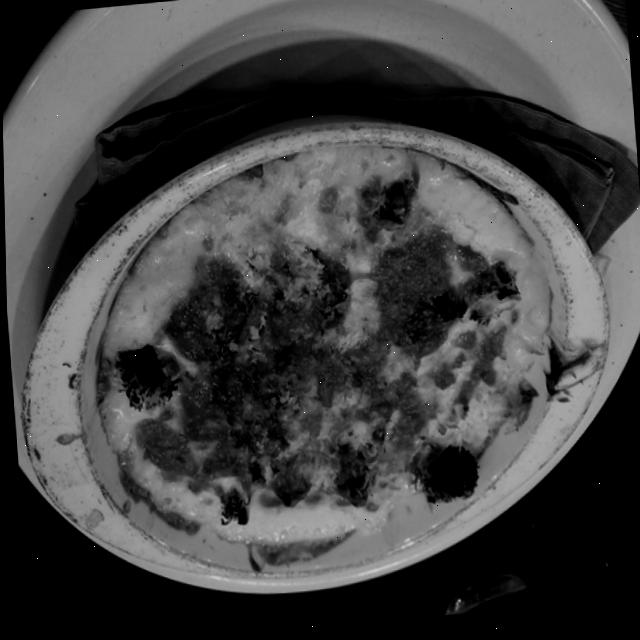米饭主食: (41, 127, 589, 593)
